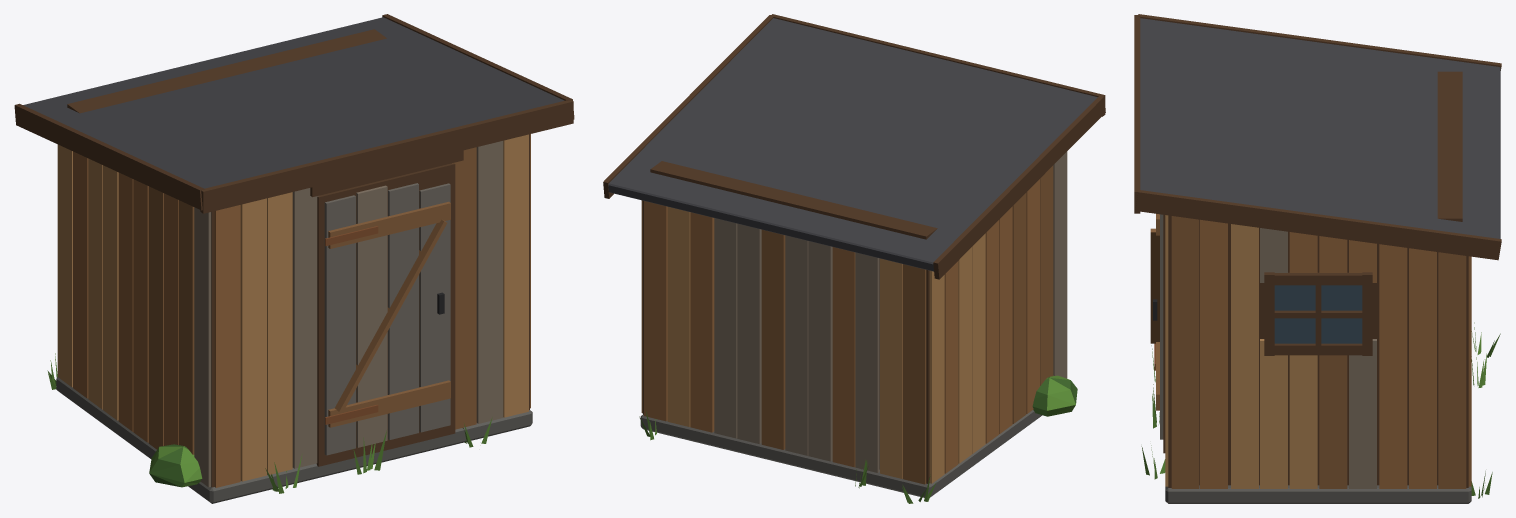
The model's file is GardenShed.fbx.
3 renders of one model, left to right at view 1: azimuth 30°, elevation 25°; view 2: azimuth 150°, elevation 25°; view 3: azimuth 270°, elevation 25°, orthographic. The views are drawn at different scales.
Parts seen in each view (by area): view 1: GardenShed; view 2: GardenShed; view 3: GardenShed.
Part boxes in pixels (x1,y1,x2,y2): GardenShed: (14, 14, 574, 503); GardenShed: (603, 14, 1105, 503); GardenShed: (1134, 14, 1501, 503).
Bounding box in the file's own units: 2.91 × 2.41 × 2.47.
Materials: 1 (1 with a texture image).
